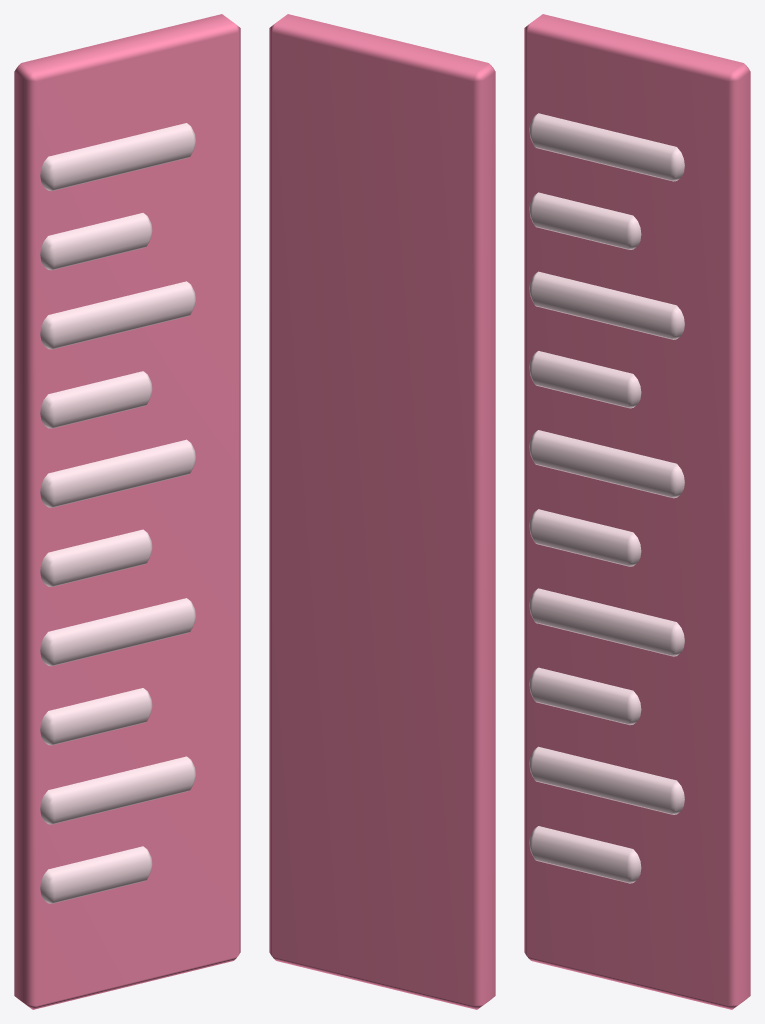
File: Public_8_Ruler_1.glb
3 renders of one model, left to right at view 1: azimuth 30°, elevation 25°; view 2: azimuth 150°, elevation 25°; view 3: azimuth 330°, elevation 25°, orthographic.
Parts seen in each view (by area): view 1: Public_8_Ruler_1; view 2: Public_8_Ruler_1; view 3: Public_8_Ruler_1.
Part boxes in pixels (<box>): Public_8_Ruler_1: <box>14,14,240,1009</box>; Public_8_Ruler_1: <box>269,14,495,1009</box>; Public_8_Ruler_1: <box>524,14,750,1009</box>.
Size of the model in its own units: 0.4518 by 1.89 by 0.0958.
1 material, 1 textured.
